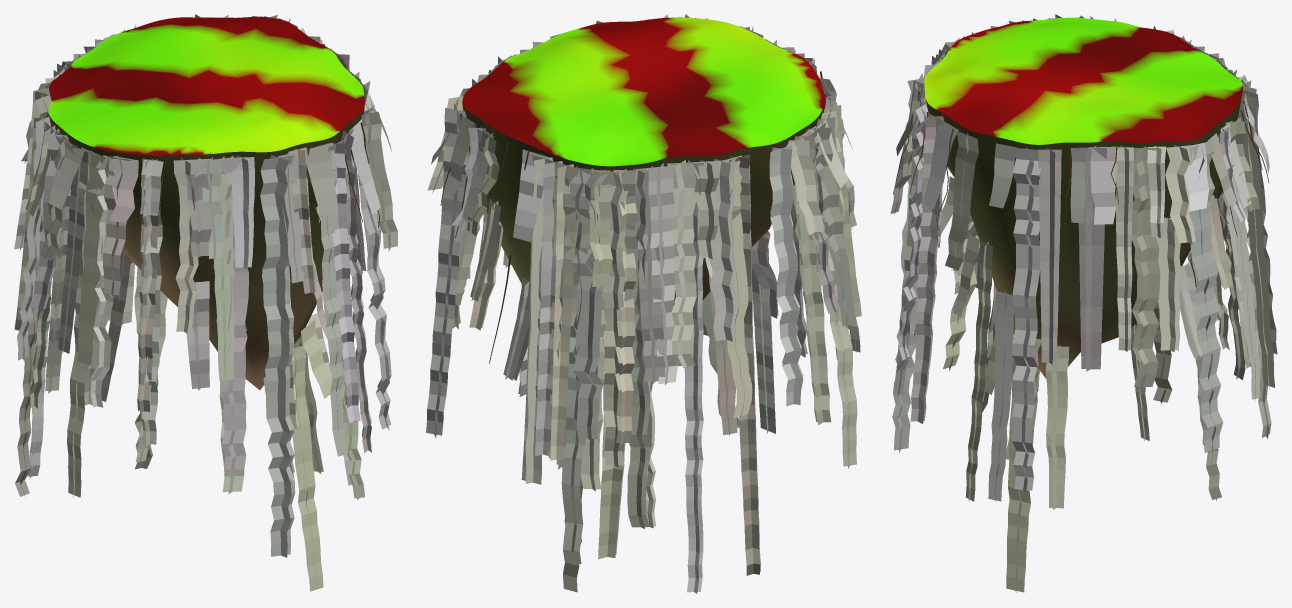
The model's file is SM_H09_Floater01.fbx.
3 views of the same model, side by side, from view 1: azimuth 30°, elevation 25°; view 2: azimuth 150°, elevation 25°; view 3: azimuth 270°, elevation 25° (orthographic). The views are drawn at different scales.
Parts seen in each view (by area): view 1: SM_H09_Floater01_Ivy, SM_H09_Floater01; view 2: SM_H09_Floater01_Ivy, SM_H09_Floater01; view 3: SM_H09_Floater01_Ivy, SM_H09_Floater01.
Part boxes in pixels (box(x1,y1,x2,y2)): SM_H09_Floater01_Ivy: box(14, 14, 397, 592); SM_H09_Floater01: box(48, 16, 364, 389); SM_H09_Floater01_Ivy: box(426, 14, 861, 593); SM_H09_Floater01: box(462, 17, 825, 345); SM_H09_Floater01_Ivy: box(890, 14, 1277, 592); SM_H09_Floater01: box(924, 17, 1242, 378).
Size of the model in its own units: 26.4 by 37.48 by 27.16.
